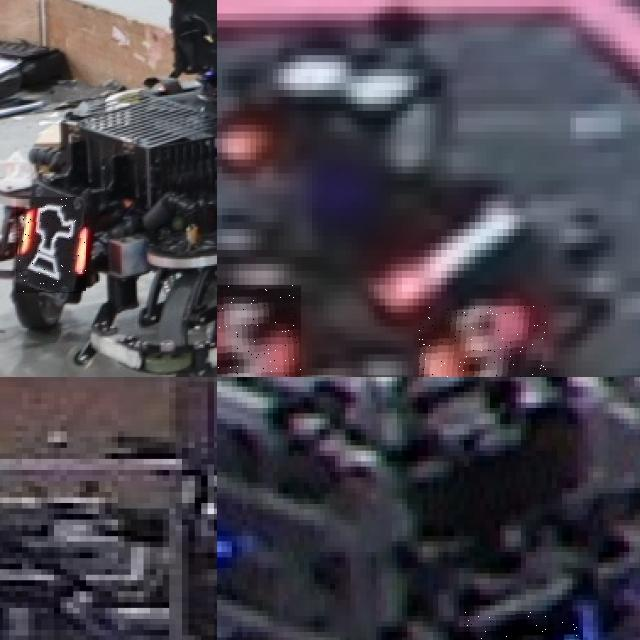B2: (464, 610, 582, 640)
R5: (419, 305, 548, 377), (217, 284, 301, 377)
Rs: (16, 197, 86, 293)
